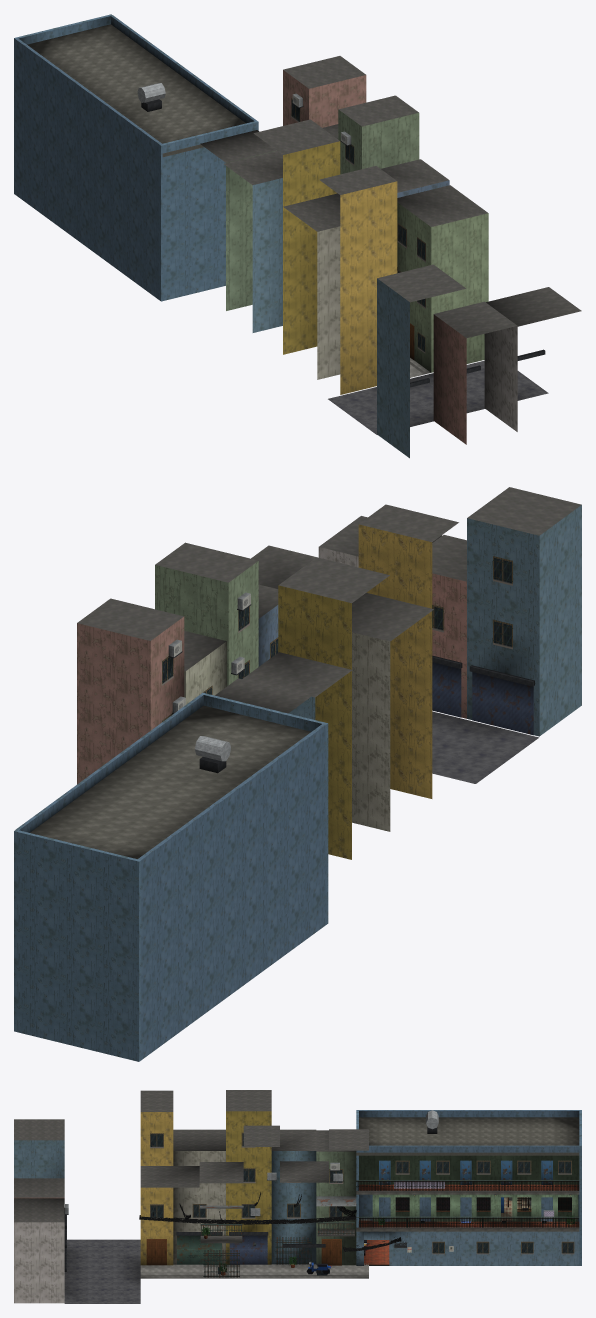
Rendered from dorm.glb.
The picture shows the model from 3 angles, top to bottom: view 1: azimuth 30°, elevation 25°; view 2: azimuth 150°, elevation 25°; view 3: azimuth 270°, elevation 25°; orthographic projection. The views are drawn at different scales.
Visible parts, largest first — view 1: dorm_wall_blue, dorm_concrete_dark, dorm_wall_yellow, dorm_wall_green, dorm_concrete, dorm_wall_white, dorm_wall_pink, dorm_asphalt, dorm_window_bars, dorm_metal_dark, dorm_metal_alu; view 2: dorm_wall_blue, dorm_concrete_dark, dorm_wall_yellow, dorm_concrete, dorm_wall_pink, dorm_wall_white, dorm_wall_green, dorm_asphalt, dorm_shutter_blue, dorm_window_bars, dorm_metal_alu, dorm_metal_dark; view 3: dorm_wall_blue, dorm_concrete_dark, dorm_concrete, dorm_wall_green, dorm_wall_yellow, dorm_wall_white, dorm_asphalt, dorm_railing_cut, dorm_window_bars, dorm_tile_red, dorm_iron_gate_cut, dorm_cables_cut (+11 smaller).
Boxes of the visible parts, box(x1,y1,x2,y2) form: dorm_wall_blue: box(14, 14, 449, 458); dorm_concrete_dark: box(200, 56, 581, 374); dorm_wall_yellow: box(283, 141, 397, 394); dorm_wall_green: box(226, 109, 488, 372); dorm_concrete: box(27, 24, 430, 377); dorm_wall_white: box(317, 226, 517, 431); dorm_wall_pink: box(283, 70, 466, 444); dorm_asphalt: box(328, 360, 548, 434); dorm_window_bars: box(291, 98, 425, 353); dorm_metal_dark: box(141, 99, 545, 387); dorm_metal_alu: box(137, 83, 351, 144); dorm_wall_blue: box(14, 505, 581, 1061); dorm_concrete_dark: box(77, 487, 581, 713); dorm_wall_yellow: box(278, 524, 432, 859); dorm_concrete: box(30, 705, 310, 858); dorm_wall_pink: box(77, 573, 466, 784); dorm_wall_white: box(184, 547, 390, 831); dorm_wall_green: box(155, 561, 258, 686); dorm_asphalt: box(432, 711, 538, 783); dorm_shutter_blue: box(432, 662, 533, 735); dorm_window_bars: box(162, 556, 512, 721); dorm_metal_alu: box(168, 592, 250, 761); dorm_metal_dark: box(168, 604, 534, 773); dorm_wall_blue: box(14, 1110, 581, 1265); dorm_concrete_dark: box(14, 1090, 579, 1276); dorm_concrete: box(140, 1117, 579, 1278); dorm_wall_green: box(316, 1151, 579, 1265); dorm_wall_yellow: box(140, 1111, 271, 1265); dorm_wall_white: box(14, 1151, 531, 1303); dorm_asphalt: box(64, 1239, 140, 1303); dorm_railing_cut: box(200, 1181, 579, 1235); dorm_window_bars: box(150, 1132, 574, 1254); dorm_tile_red: box(359, 1184, 579, 1264); dorm_iron_gate_cut: box(203, 1197, 571, 1277); dorm_cables_cut: box(139, 1192, 401, 1251).
Size of what is drawn, in the model's own units: 13.8 by 13.4 by 44.8.
51 materials, 51 textured.
